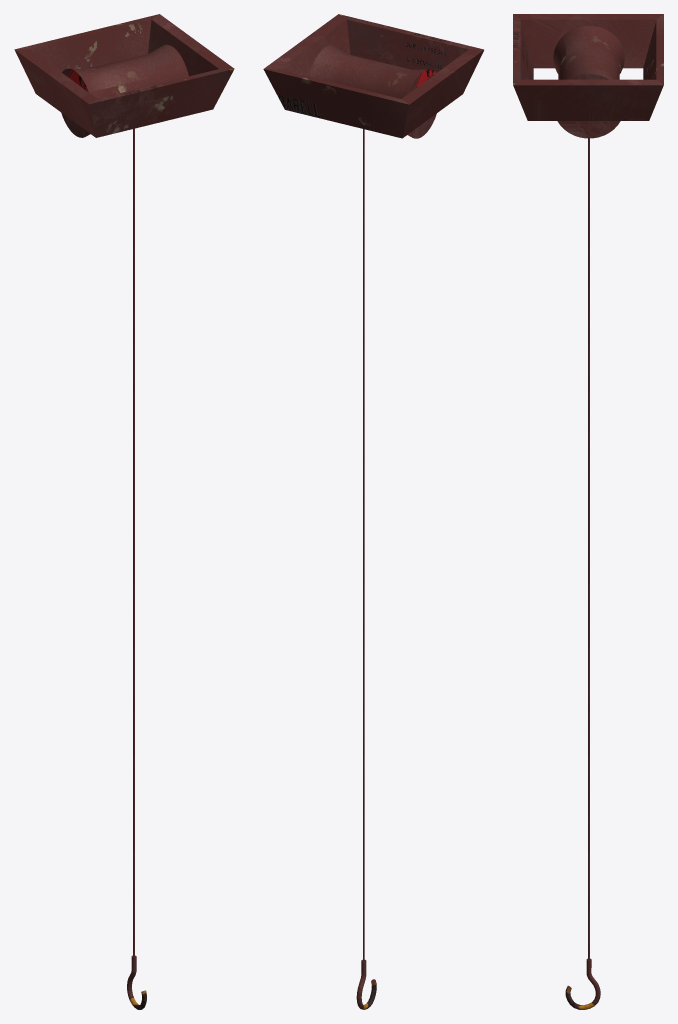
Rendered from CS_crane_04_hook.FBX.
3 renders of one model, left to right at view 1: azimuth 30°, elevation 25°; view 2: azimuth 150°, elevation 25°; view 3: azimuth 270°, elevation 25°, orthographic.
Parts seen in each view (by area): view 1: SM_crane_04_hook; view 2: SM_crane_04_hook; view 3: SM_crane_04_hook.
Part boxes in pixels (x1=…): SM_crane_04_hook: x1=14, y1=14, x2=234, y2=1009; SM_crane_04_hook: x1=263, y1=14, x2=483, y2=1009; SM_crane_04_hook: x1=513, y1=14, x2=663, y2=1009.
Bounding box in the file's own units: 140 × 125 × 874.
